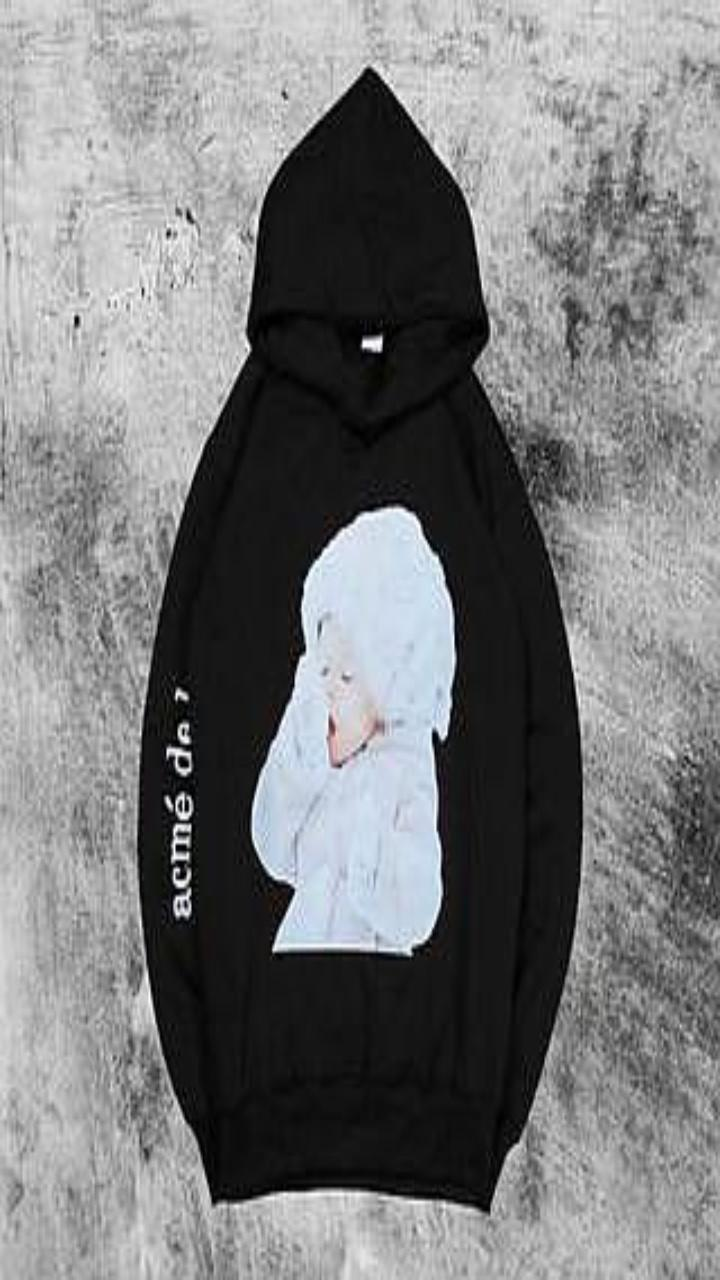Hoodie: (138, 68, 581, 1210)
